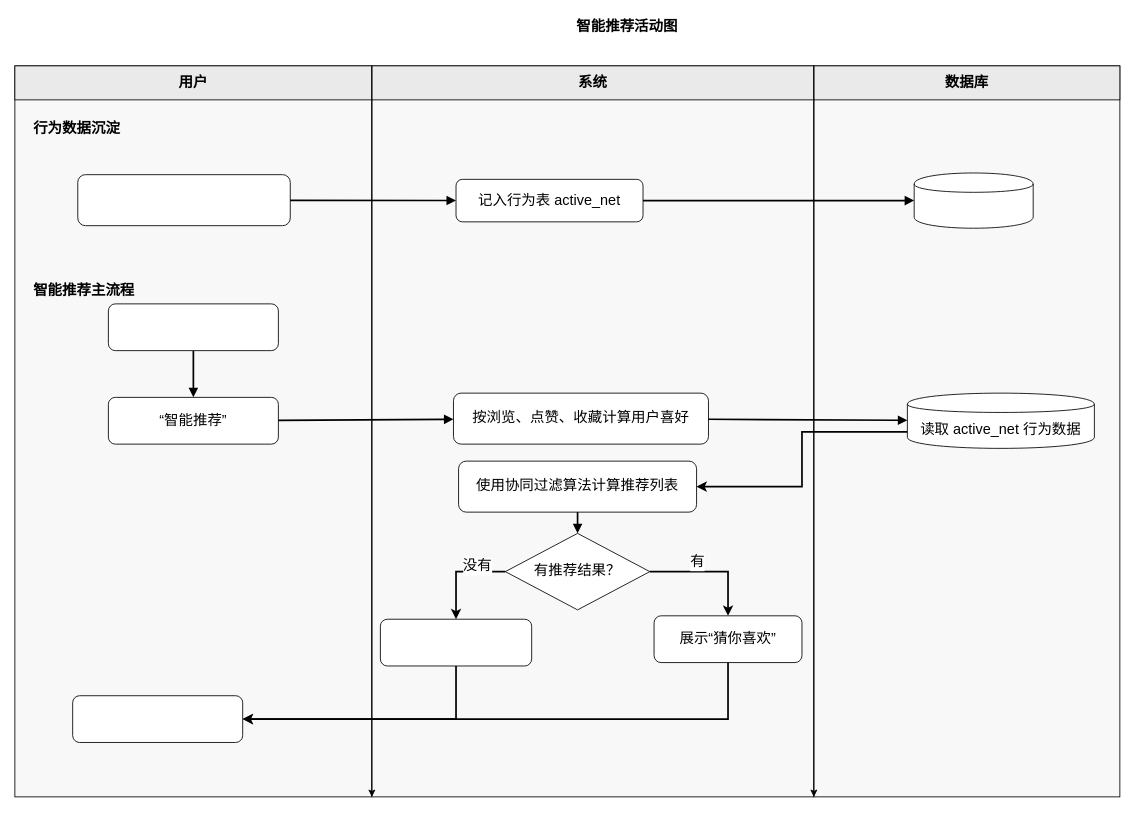
Some shapes in this 1135 by 819 pixel diagram are drawn without their labels. The centre of each missing label's shape, as x and y in pixels:
"active_net" goes at pixel 973 200.
"展示“浏览最多的热门宠物”" goes at pixel 456 642.
"开始" goes at pixel 193 327.
"看宠物详情 / 点赞 / 收藏" goes at pixel 183 200.
"结束" goes at pixel 157 718.
